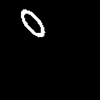chain: (21, 10, 44, 36)
